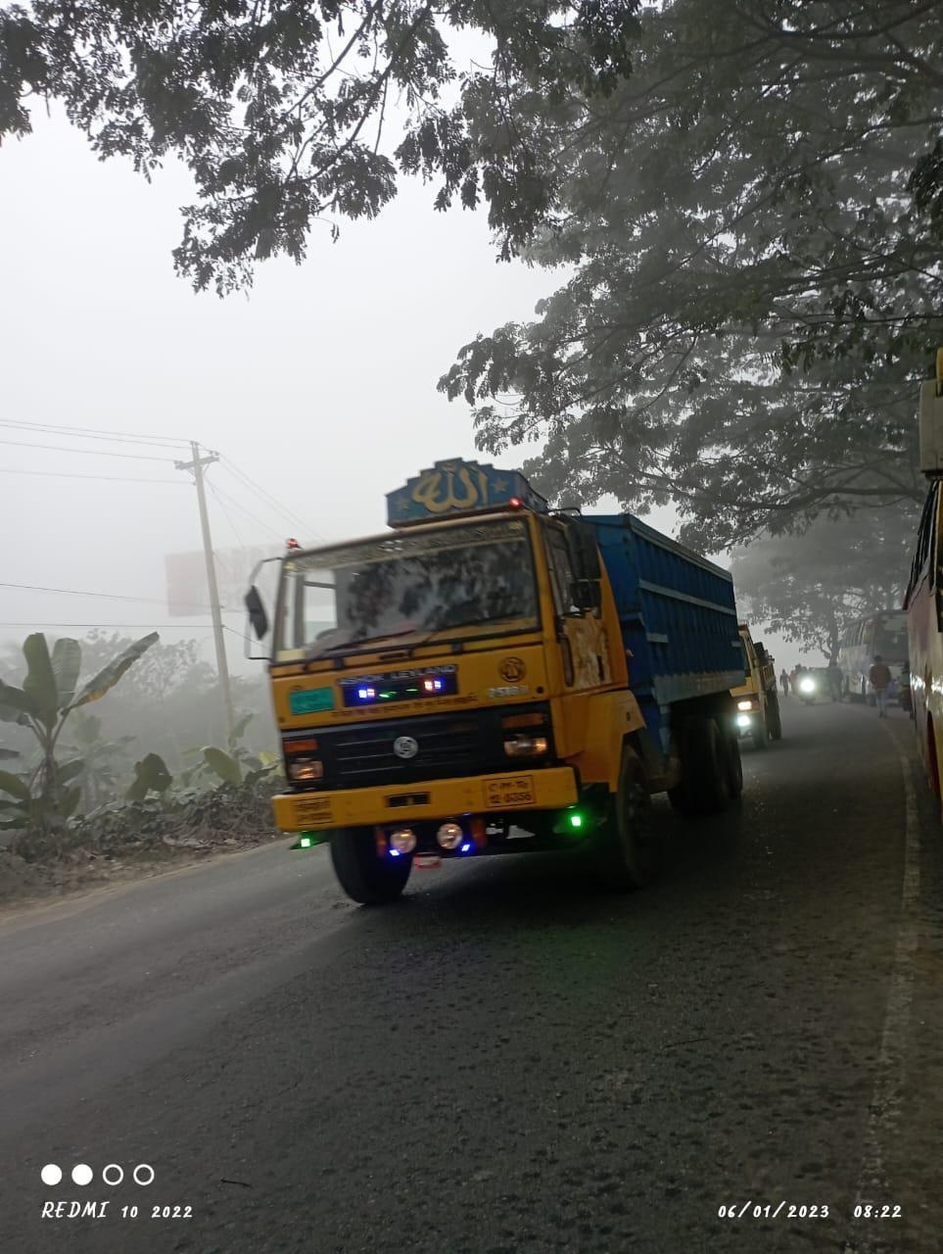Bike: (787, 661, 820, 712)
Bus: (832, 593, 915, 714)
Truck: (228, 450, 753, 890)
